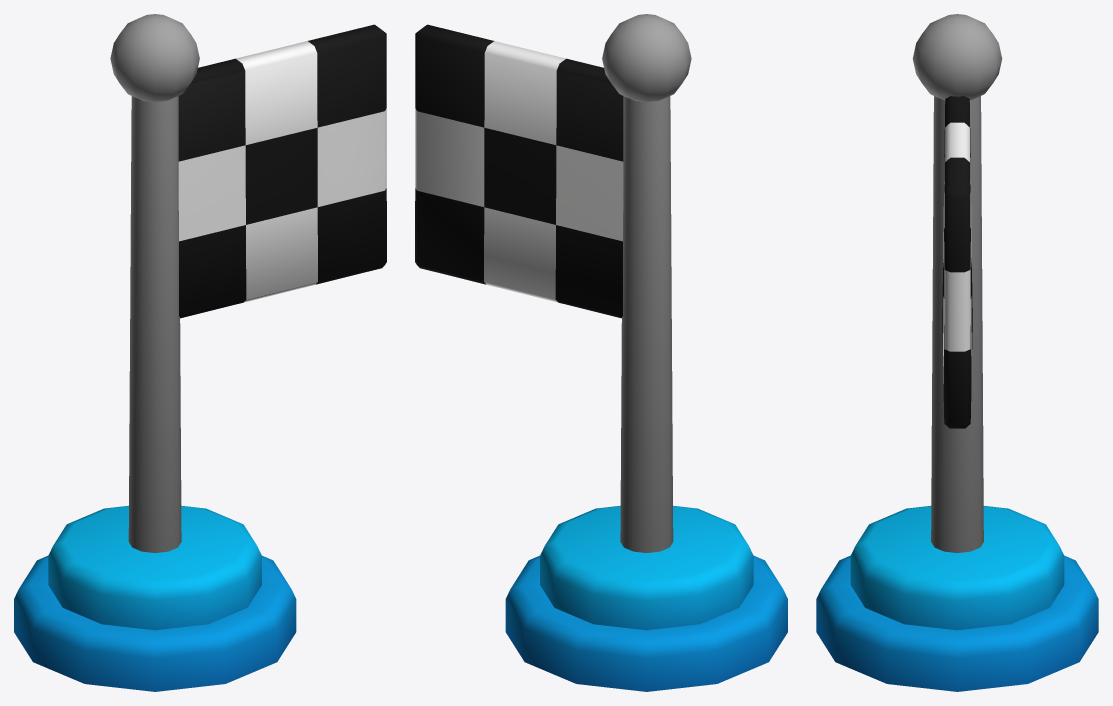
File: Props_Flag_03.fbx
3 renders of one model, left to right at view 1: azimuth 30°, elevation 25°; view 2: azimuth 150°, elevation 25°; view 3: azimuth 270°, elevation 25°, orthographic.
Visible parts, largest first — view 1: Props_Flag_03; view 2: Props_Flag_03; view 3: Props_Flag_03.
Boxes of the visible parts, x1,y1,x2,y2 form: Props_Flag_03: [14, 14, 386, 691]; Props_Flag_03: [415, 14, 787, 691]; Props_Flag_03: [816, 14, 1098, 691].
Bounding box in the file's own units: 67.73 × 114 × 47.27.
